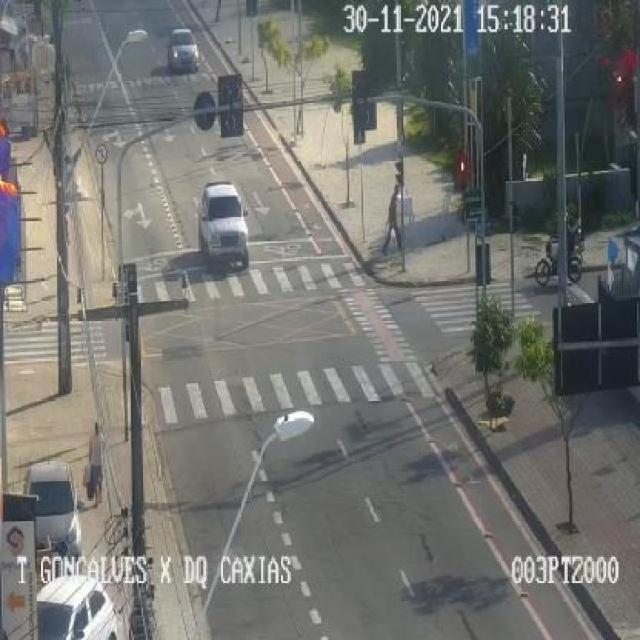Car: (20, 466, 81, 564), (192, 177, 258, 267), (33, 568, 116, 638), (163, 28, 204, 86)
Cycle: (521, 215, 591, 283)
